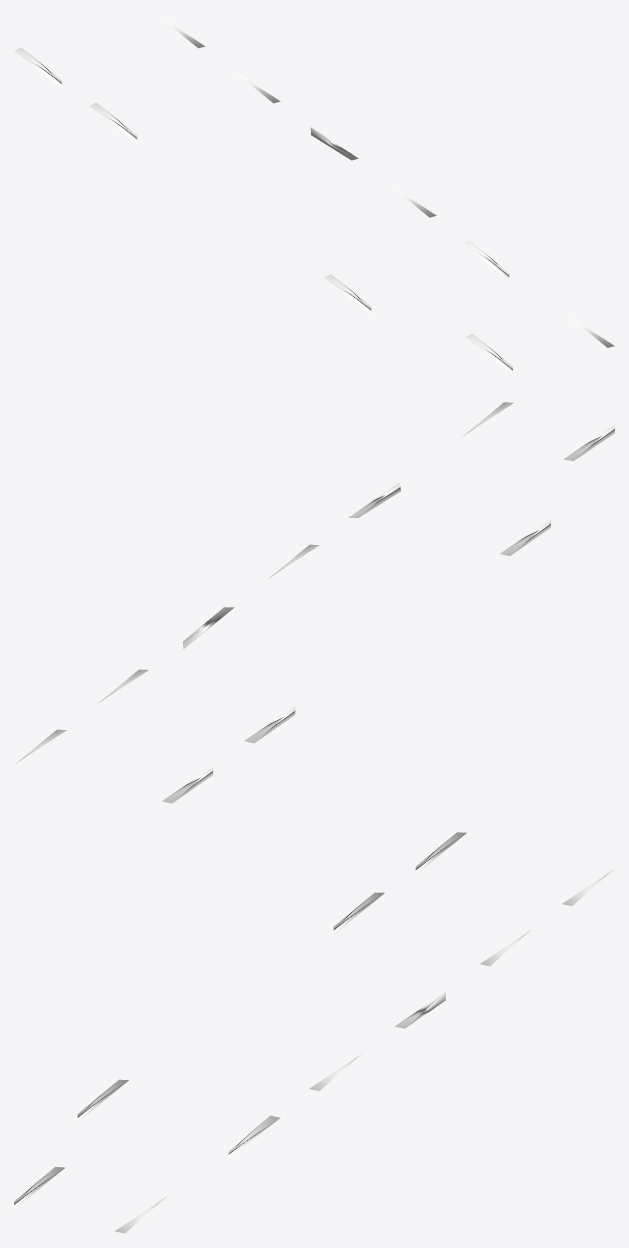
3 views of the same model, one above another, from view 1: azimuth 30°, elevation 25°; view 2: azimuth 150°, elevation 25°; view 3: azimuth 330°, elevation 25° (orthographic). The views are drawn at different scales.
Size of the model in its own units: 1.56 by 0.1116 by 8.27.
Materials: 1 (1 with a texture image).
